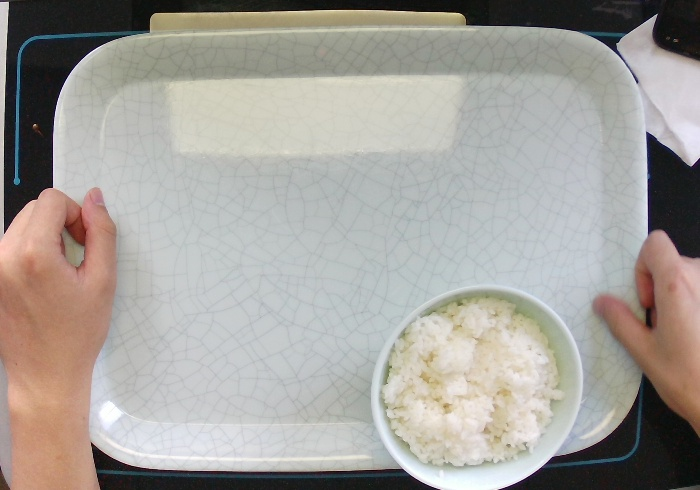JYsf-Fan_Wan: (369, 282, 585, 490)
